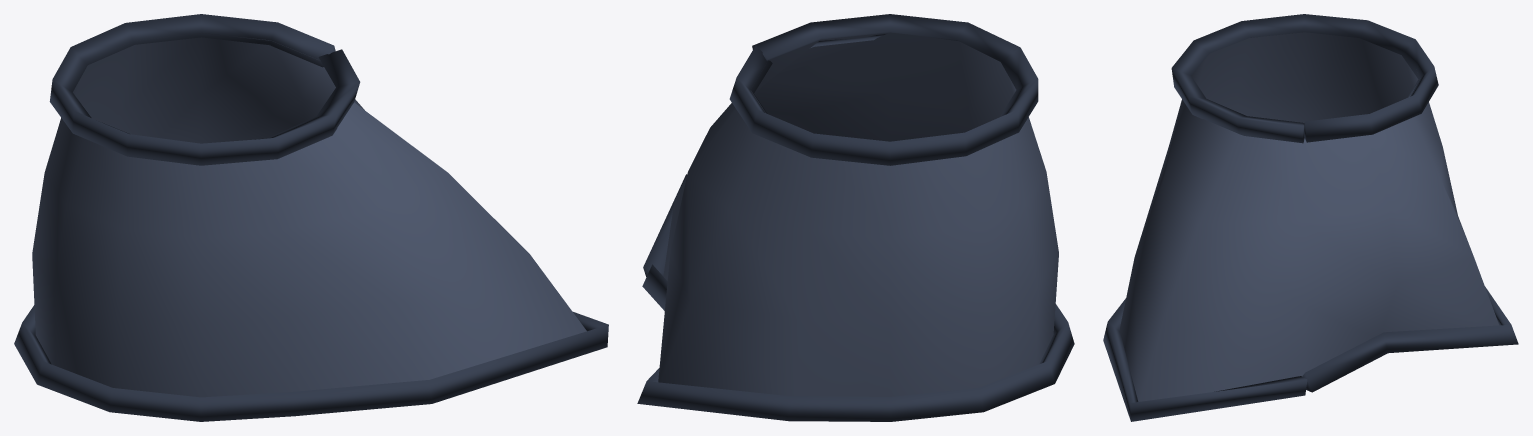
The model's file is lead_armor_pauldron.L.glb.
3 renders of one model, left to right at view 1: azimuth 30°, elevation 25°; view 2: azimuth 150°, elevation 25°; view 3: azimuth 270°, elevation 25°, orthographic. The views are drawn at different scales.
Parts seen in each view (by area): view 1: lead_armor_pauldron.L; view 2: lead_armor_pauldron.L; view 3: lead_armor_pauldron.L.
Boxes of the visible parts, left/top/right/bottom form: lead_armor_pauldron.L: left=14, top=14, right=608, bottom=421; lead_armor_pauldron.L: left=637, top=14, right=1074, bottom=421; lead_armor_pauldron.L: left=1103, top=14, right=1518, bottom=421.
Bounding box in the file's own units: 0.3 × 0.1646 × 0.2694.
